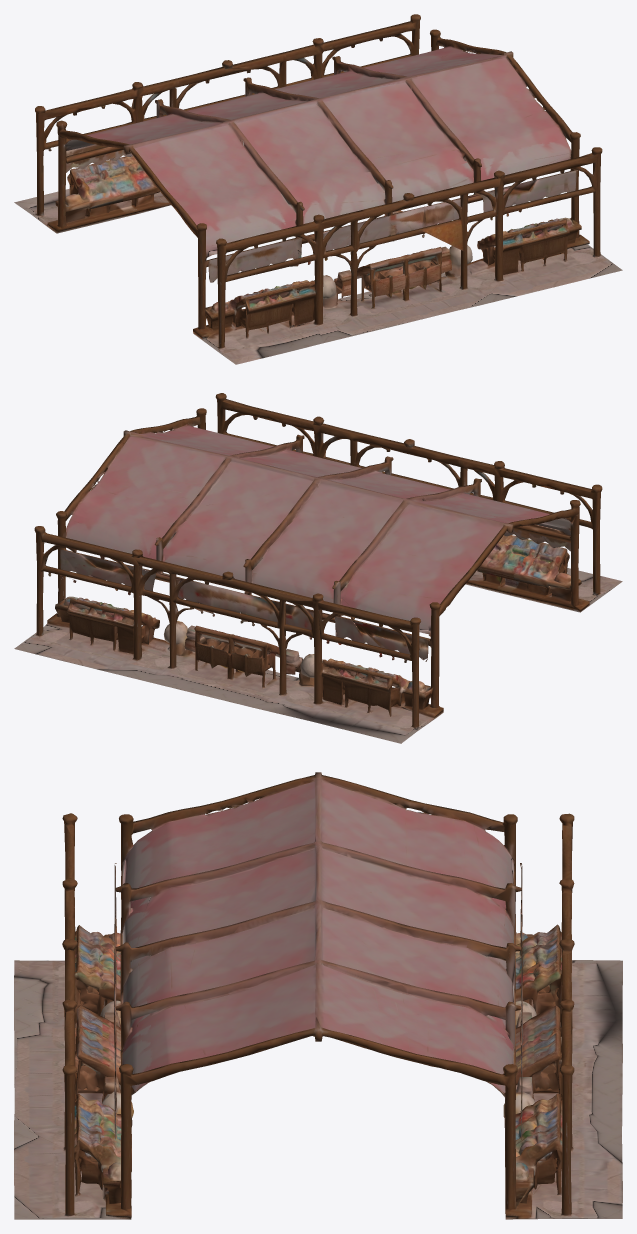
The model's file is big_market.fbx.
3 renders of one model, top to bottom at view 1: azimuth 30°, elevation 25°; view 2: azimuth 150°, elevation 25°; view 3: azimuth 270°, elevation 25°, orthographic. The views are drawn at different scales.
Parts seen in each view (by area): view 1: big_market; view 2: big_market; view 3: big_market.
Part boxes in pixels (box(x1,y1,x2,y2)): big_market: box(14, 14, 622, 364); big_market: box(14, 393, 622, 743); big_market: box(14, 772, 622, 1219).
Bounding box in the file's own units: 1.9 × 0.6432 × 1.88.
1 material, 1 textured.
